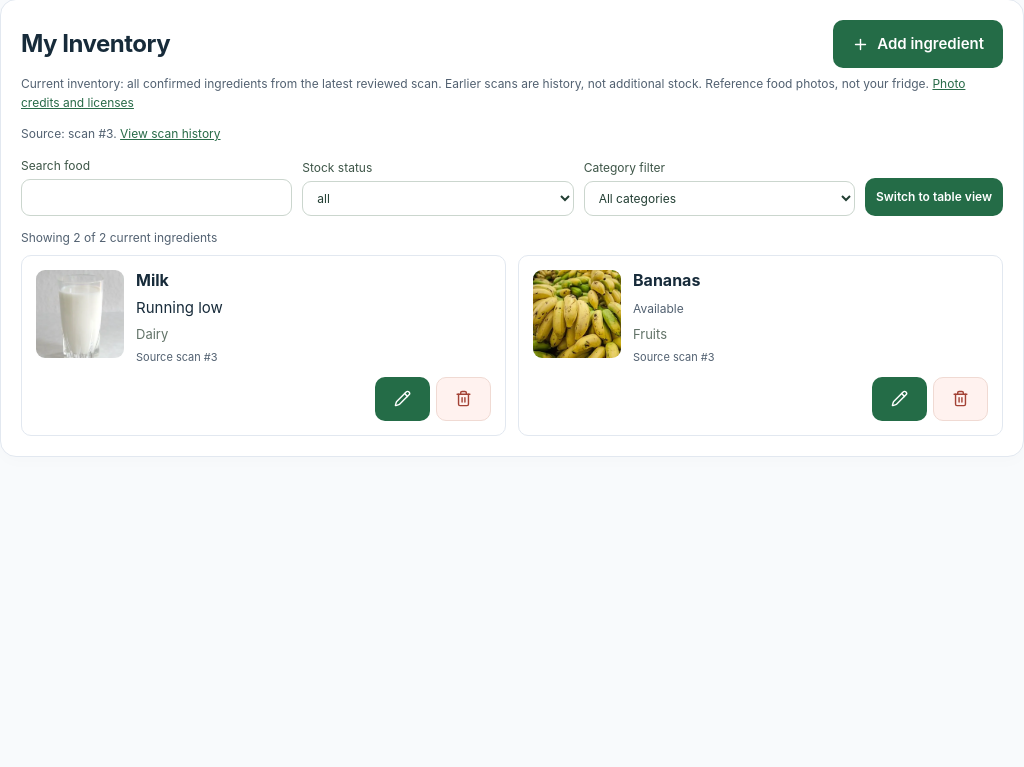
Scenario: places the table editor immediately below its row, retains failed edits and saves through the existing API
Check: the heading "Bananas" is shown, box [633,270,700,290]
Click the button "Switch to table view" at (934, 197), box [865,178,1003,216]
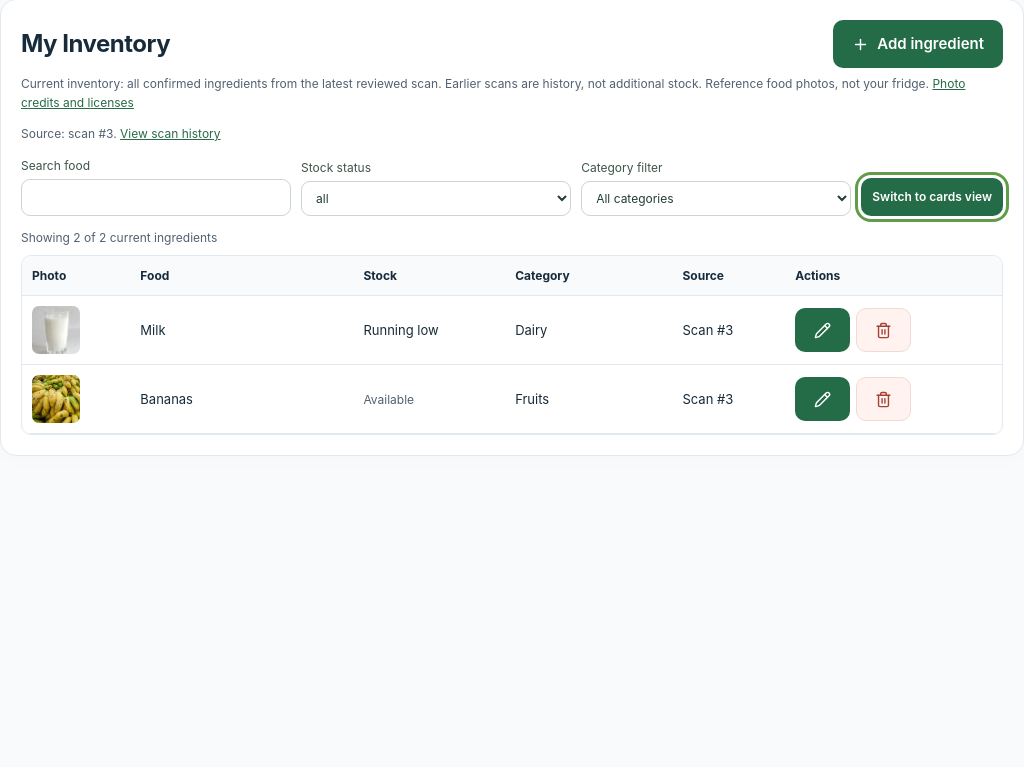
Click the button named "Edit Bananas" at (823, 399), box [795,377,850,421]
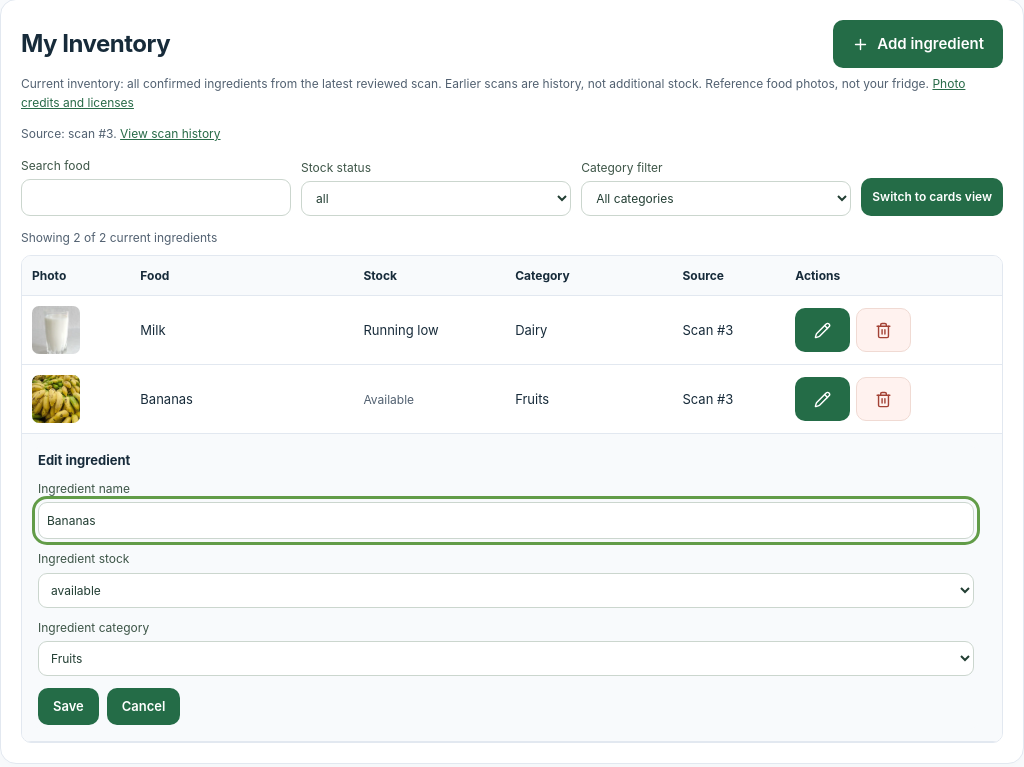
Check: the number of forms is 1, box [34,446,978,729]
Replace the text in the field labelled "Ingredient name" with "Banana" at (506, 521), box [38,502,974,540]
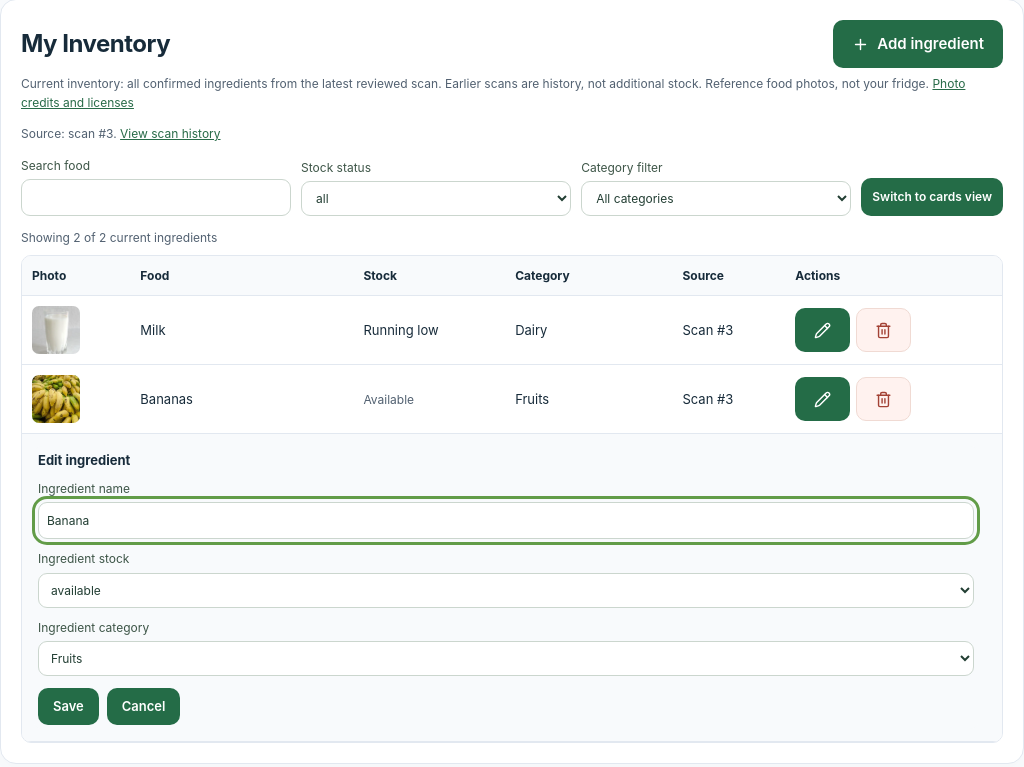
Select "Other" in the dropdown labelled "Ingredient category" at (506, 658), box [38,641,974,676]
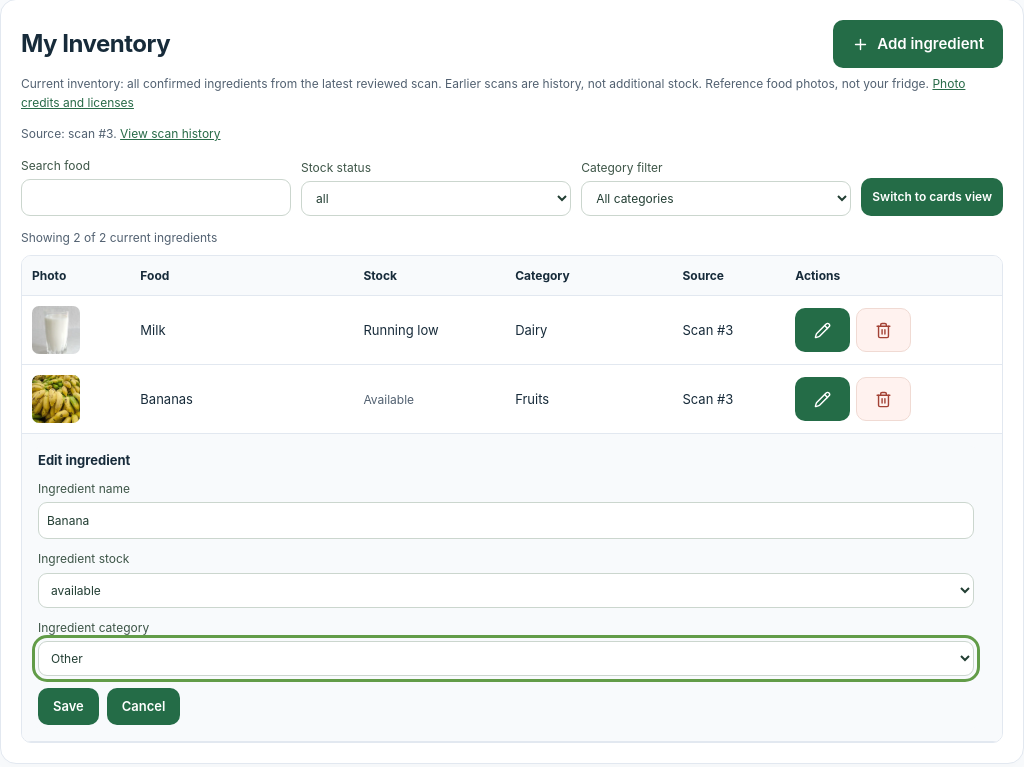
Click the button with aria-label "Save ingredient" at (68, 706), box [38,688,99,725]
(page scrolled)
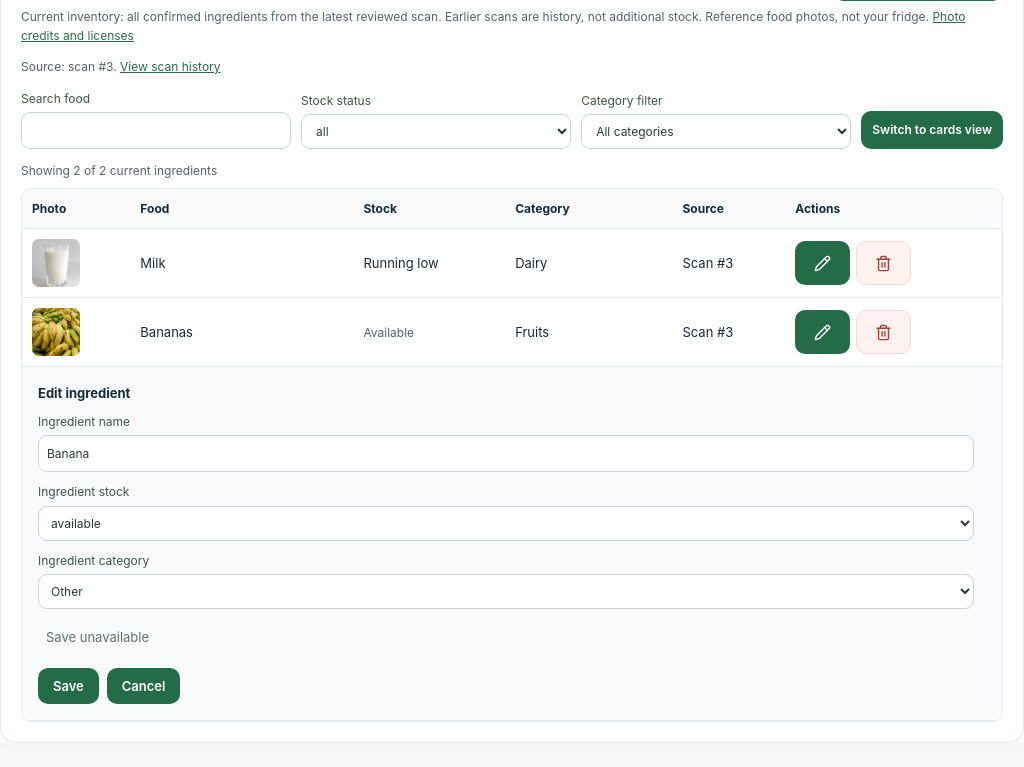
Check: the message "Save unavailable" is shown, box [46,629,149,645]
Click the button with aria-label "Save ingredient" at (68, 686), box [38,668,99,704]
(page scrolled)
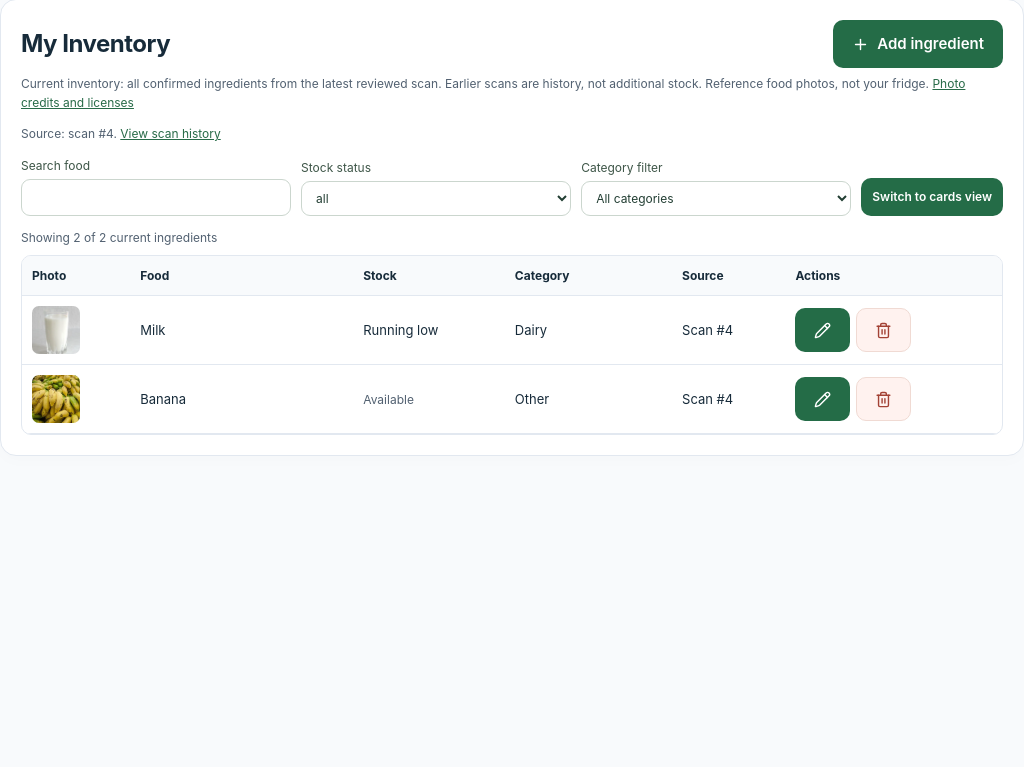
Check: the button named "Edit Banana" is shown, box [795,377,850,421]
Check: the text "Edit ingredient" is gone
